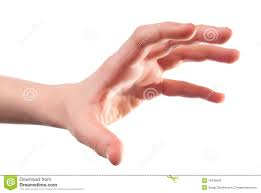hand: (69, 14, 242, 168)
